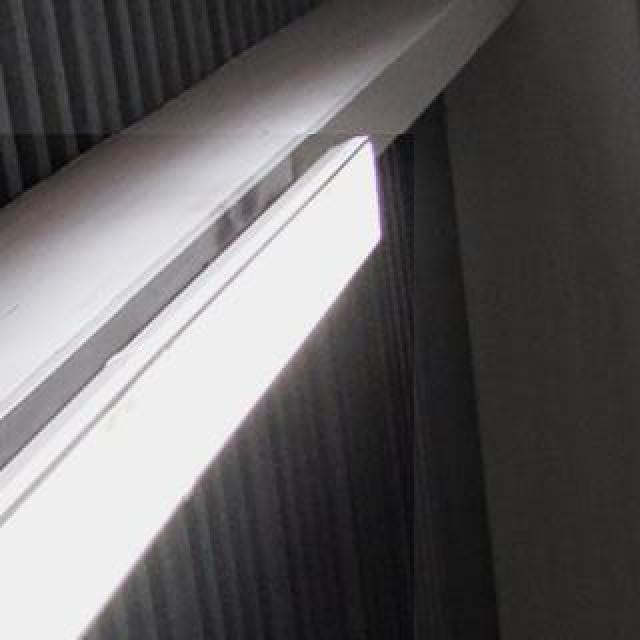fluorescent tube: (0, 126, 414, 640)
